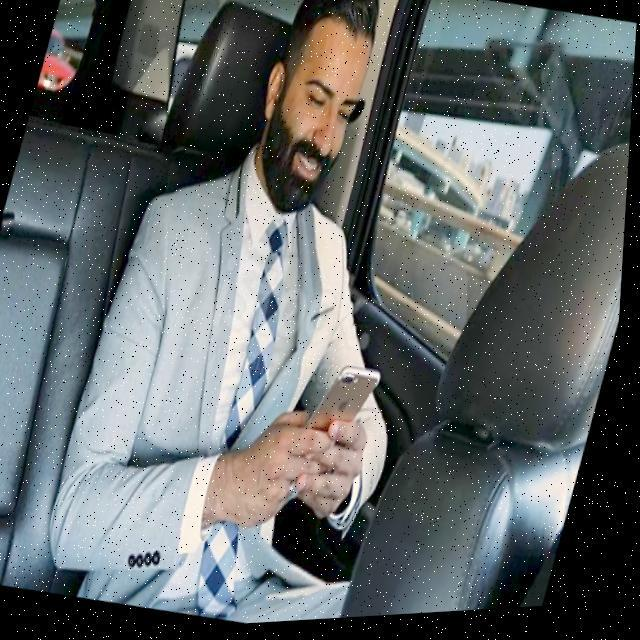PhoneCall: (300, 361, 387, 484)
